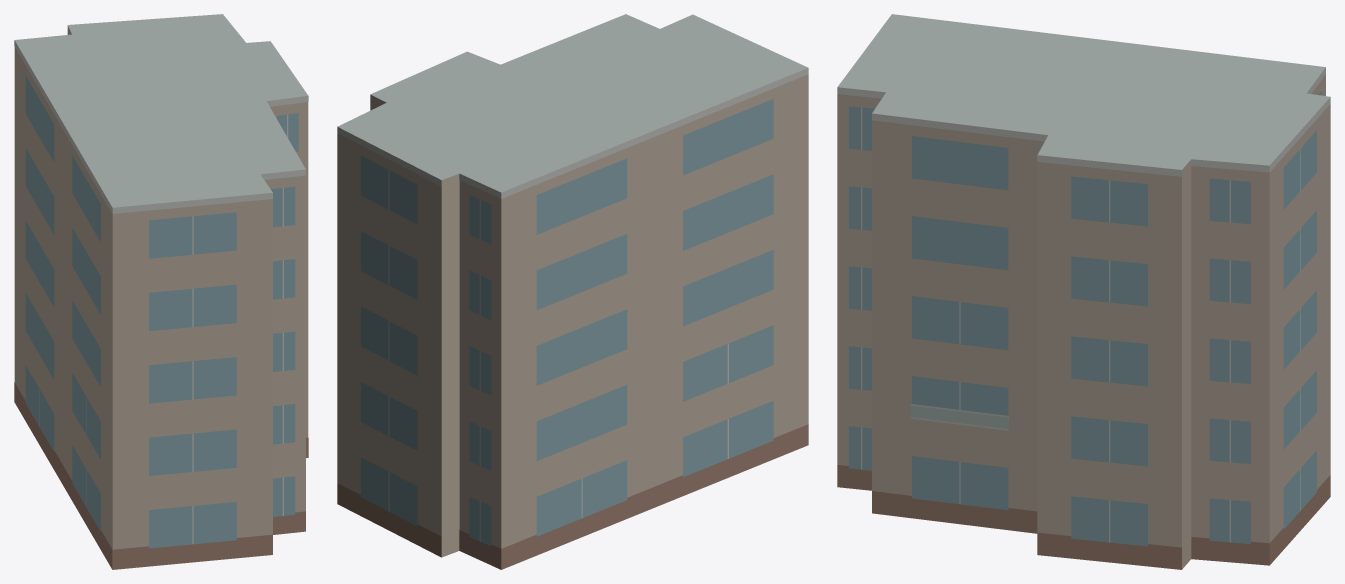
File: survey-upis-32977499.glb
3 renders of one model, left to right at view 1: azimuth 30°, elevation 25°; view 2: azimuth 150°, elevation 25°; view 3: azimuth 270°, elevation 25°, orthographic. The views are drawn at different scales.
Visible parts, largest first — view 1: survey-upis-32977499.tmp; view 2: survey-upis-32977499.tmp; view 3: survey-upis-32977499.tmp.
Boxes of the visible parts, x1=… form: survey-upis-32977499.tmp: x1=14, y1=14, x2=308, y2=569; survey-upis-32977499.tmp: x1=337, y1=14, x2=808, y2=569; survey-upis-32977499.tmp: x1=837, y1=14, x2=1330, y2=569.
Bounding box in the file's own units: 11.97 × 14.3 × 16.
